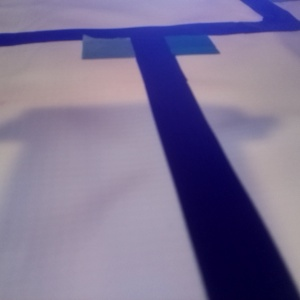bottom_left: (25, 94, 155, 170)
